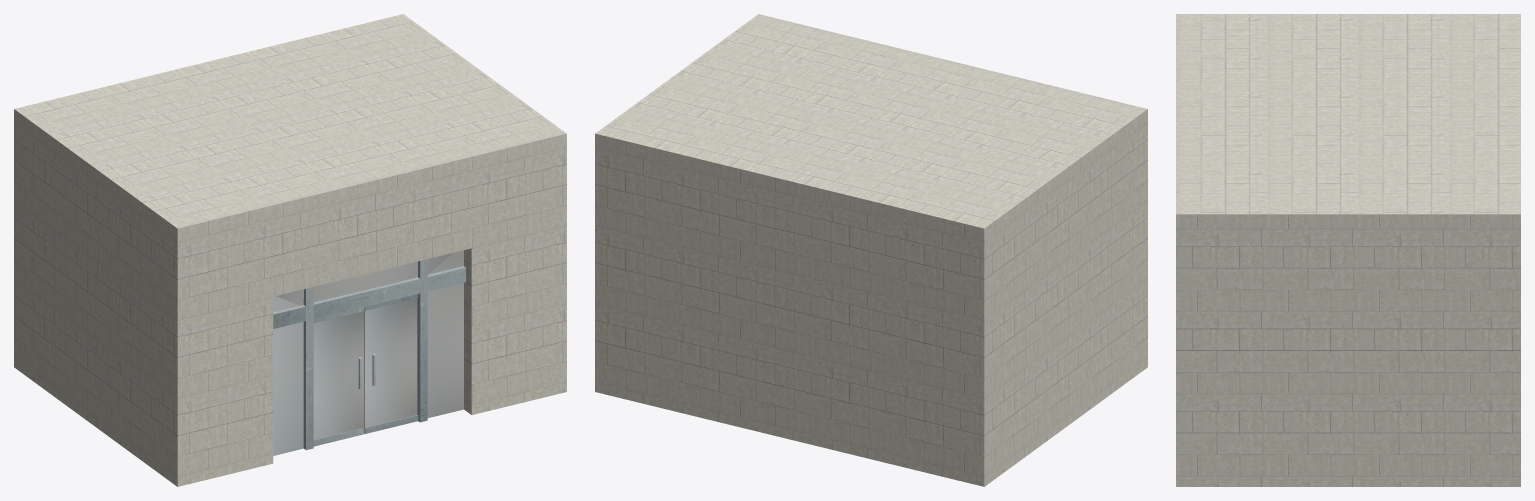
File: EnterDoor_006.fbx
The picture shows the model from 3 angles, left to right: view 1: azimuth 30°, elevation 25°; view 2: azimuth 150°, elevation 25°; view 3: azimuth 270°, elevation 25°; orthographic projection. The views are drawn at different scales.
Parts seen in each view (by area): view 1: EnterDoor_006; view 2: EnterDoor_006; view 3: EnterDoor_006.
Boxes of the visible parts, bbox=[...] form: EnterDoor_006: bbox=[14, 14, 566, 486]; EnterDoor_006: bbox=[595, 14, 1147, 486]; EnterDoor_006: bbox=[1176, 14, 1520, 486].
Size of the model in its own units: 521 by 331 by 379.
2 materials, 2 textured.
